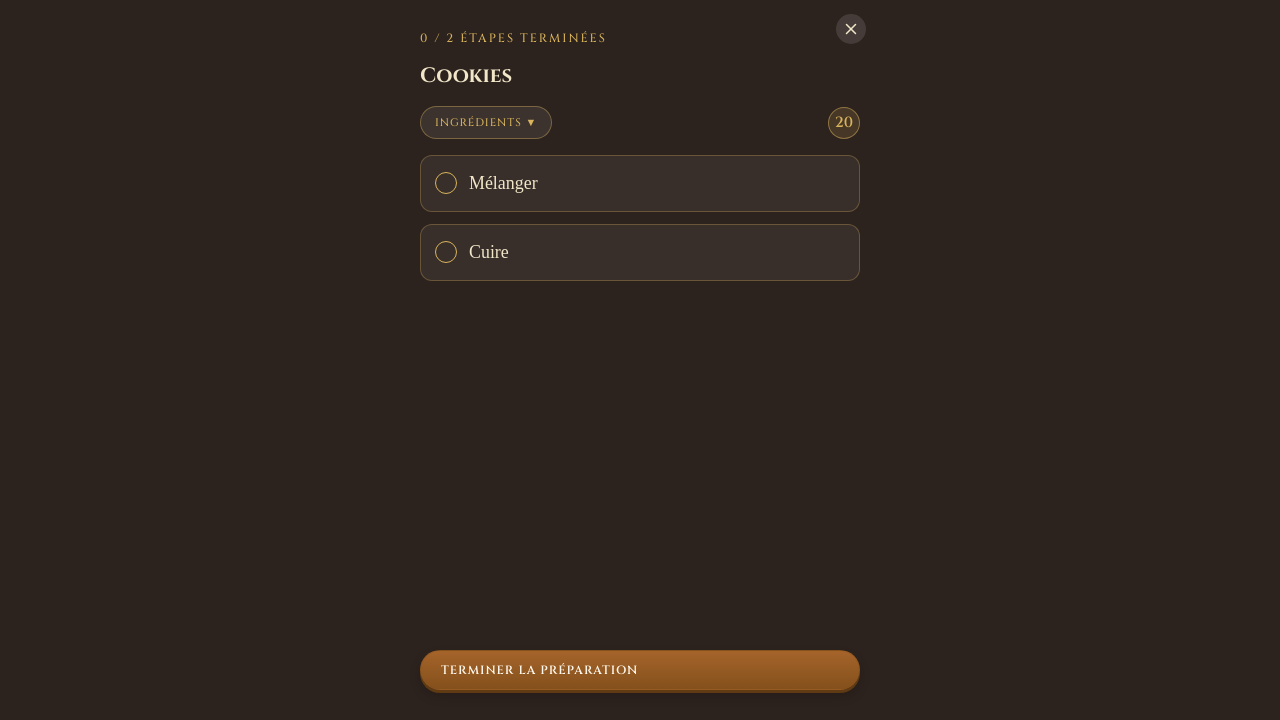
Test case: Portions à l'unité — mode cuisine › la pastille ouverte dit « cookies » au lieu de « parts »
Click the button "20".
click(844, 122)  # box [829,108,859,138]
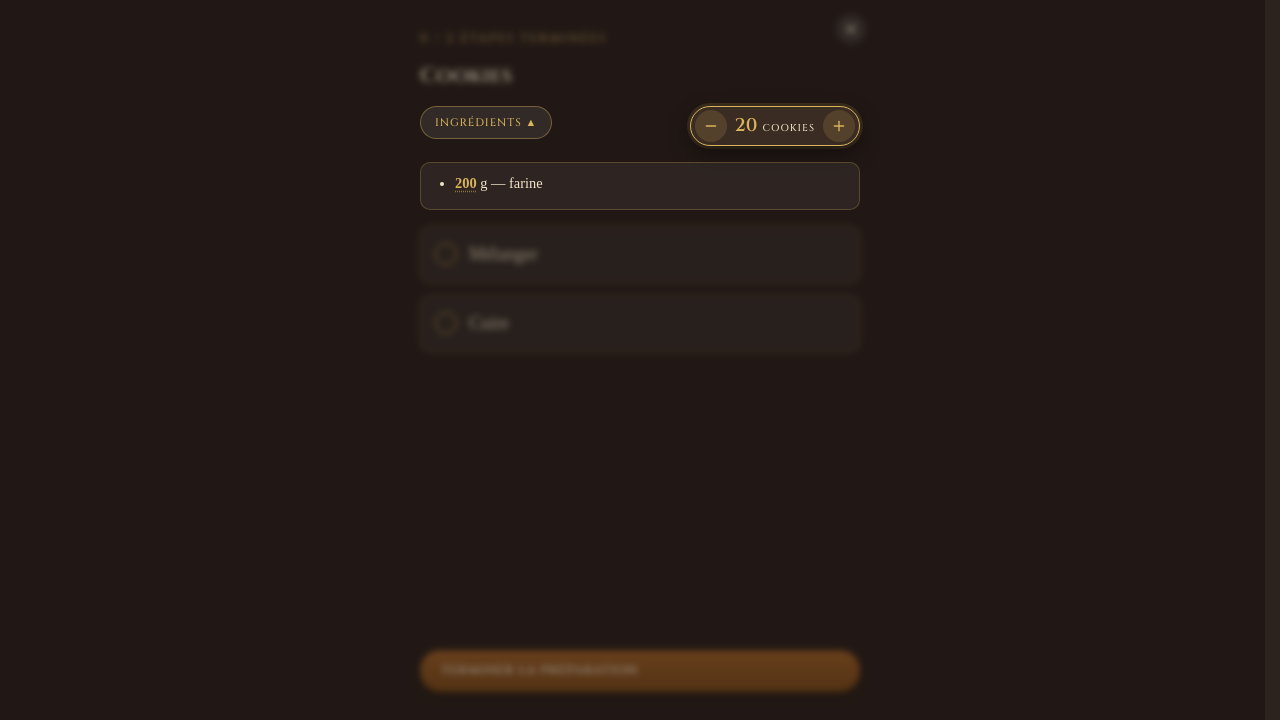
Check: the text "cookies" is shown, box [762,121,815,135]
Check: the button named "Une part de plus" is enabled, box [823,110,855,142]
